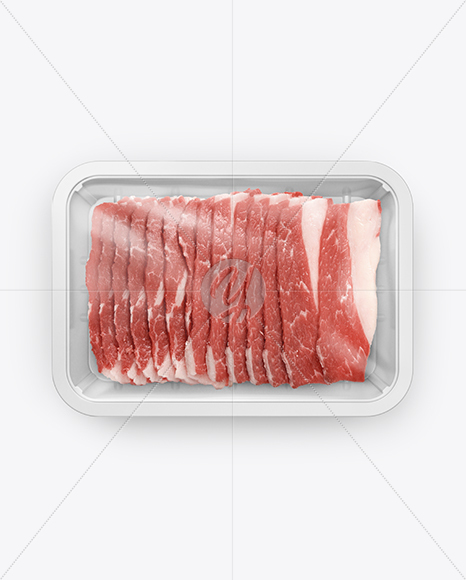bacon: (80, 187, 386, 409)
